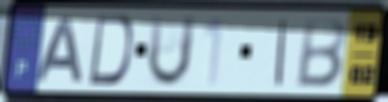1: (203, 16, 225, 87)
A: (35, 15, 86, 85)
B: (293, 16, 349, 91)
D: (86, 13, 135, 88)
I: (273, 17, 290, 88)
U: (145, 12, 198, 90)
